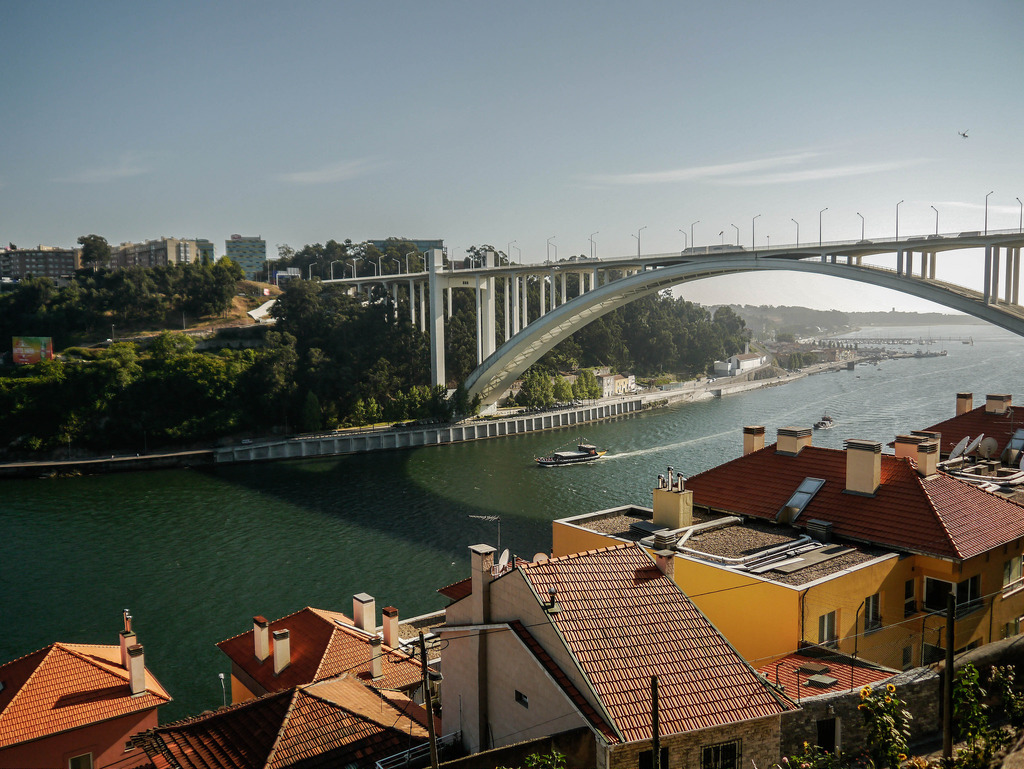arrabida: (297, 229, 1023, 420)
